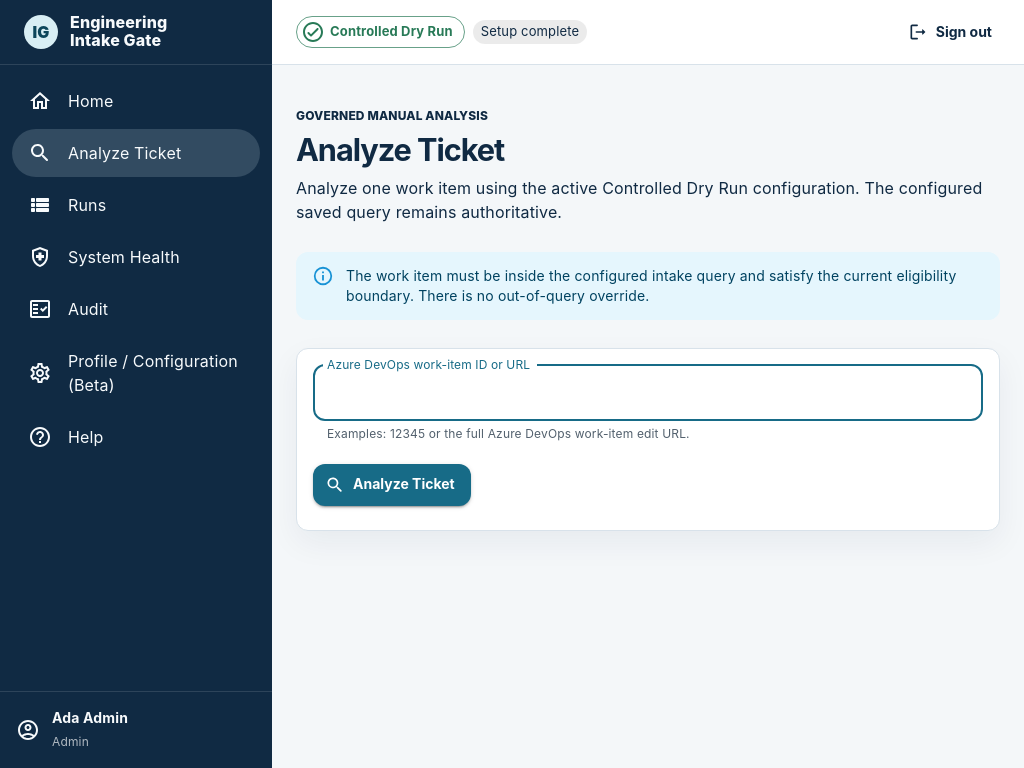
it: OPS-UI-002 governed Analyze Ticket execution › renders authoritative backend identity validation inline
Type "https://example.test/_workitems/edit/123" into the field labelled "Azure DevOps work-item ID or URL" at (648, 393), box [313,365,983,421]
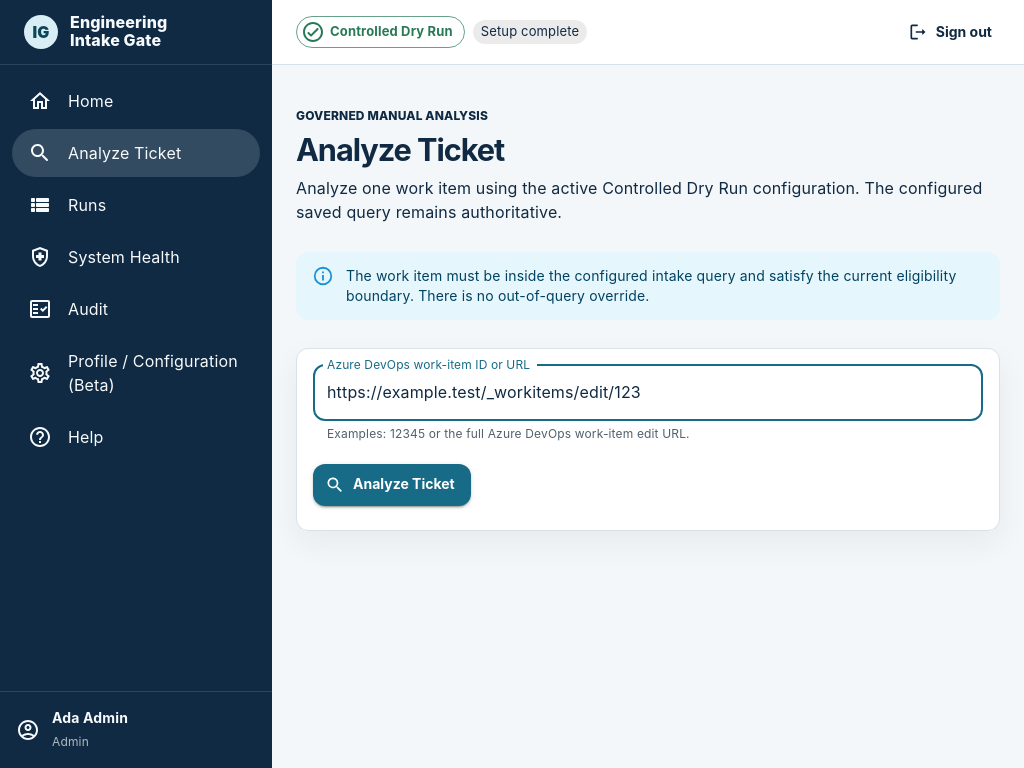
Click the button "Analyze Ticket" at (392, 485), box [313,464,471,506]
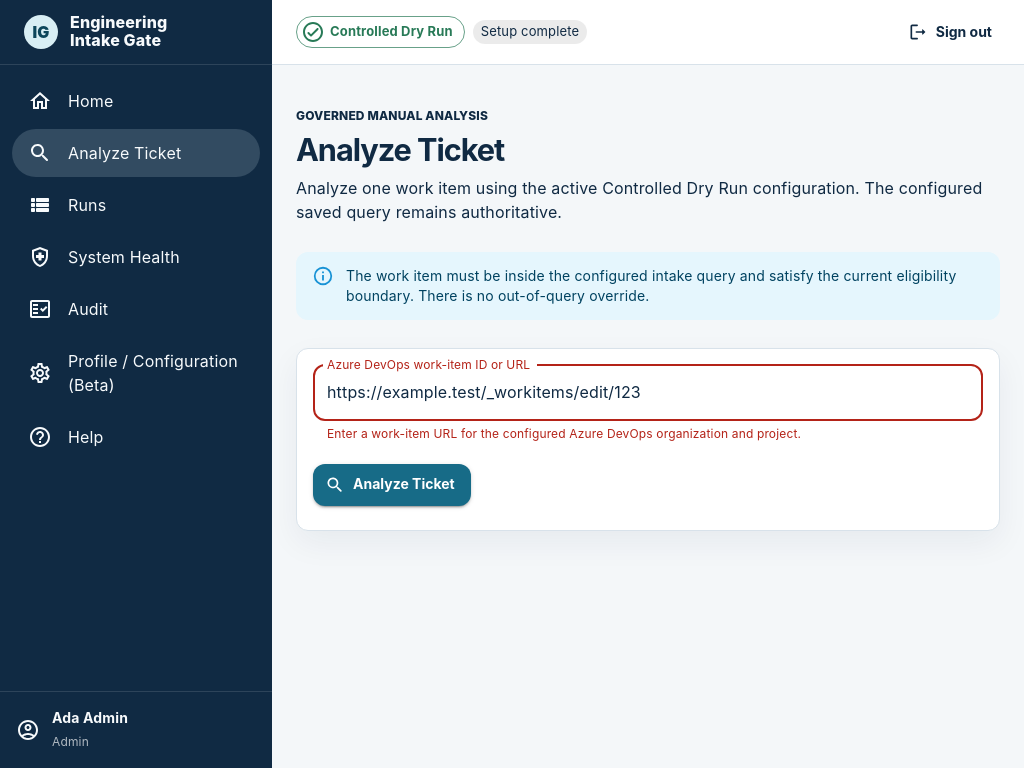
Check: the text "Enter a work-item URL for the configured Azure DevOps organization and project." is shown, box [327,426,801,441]
